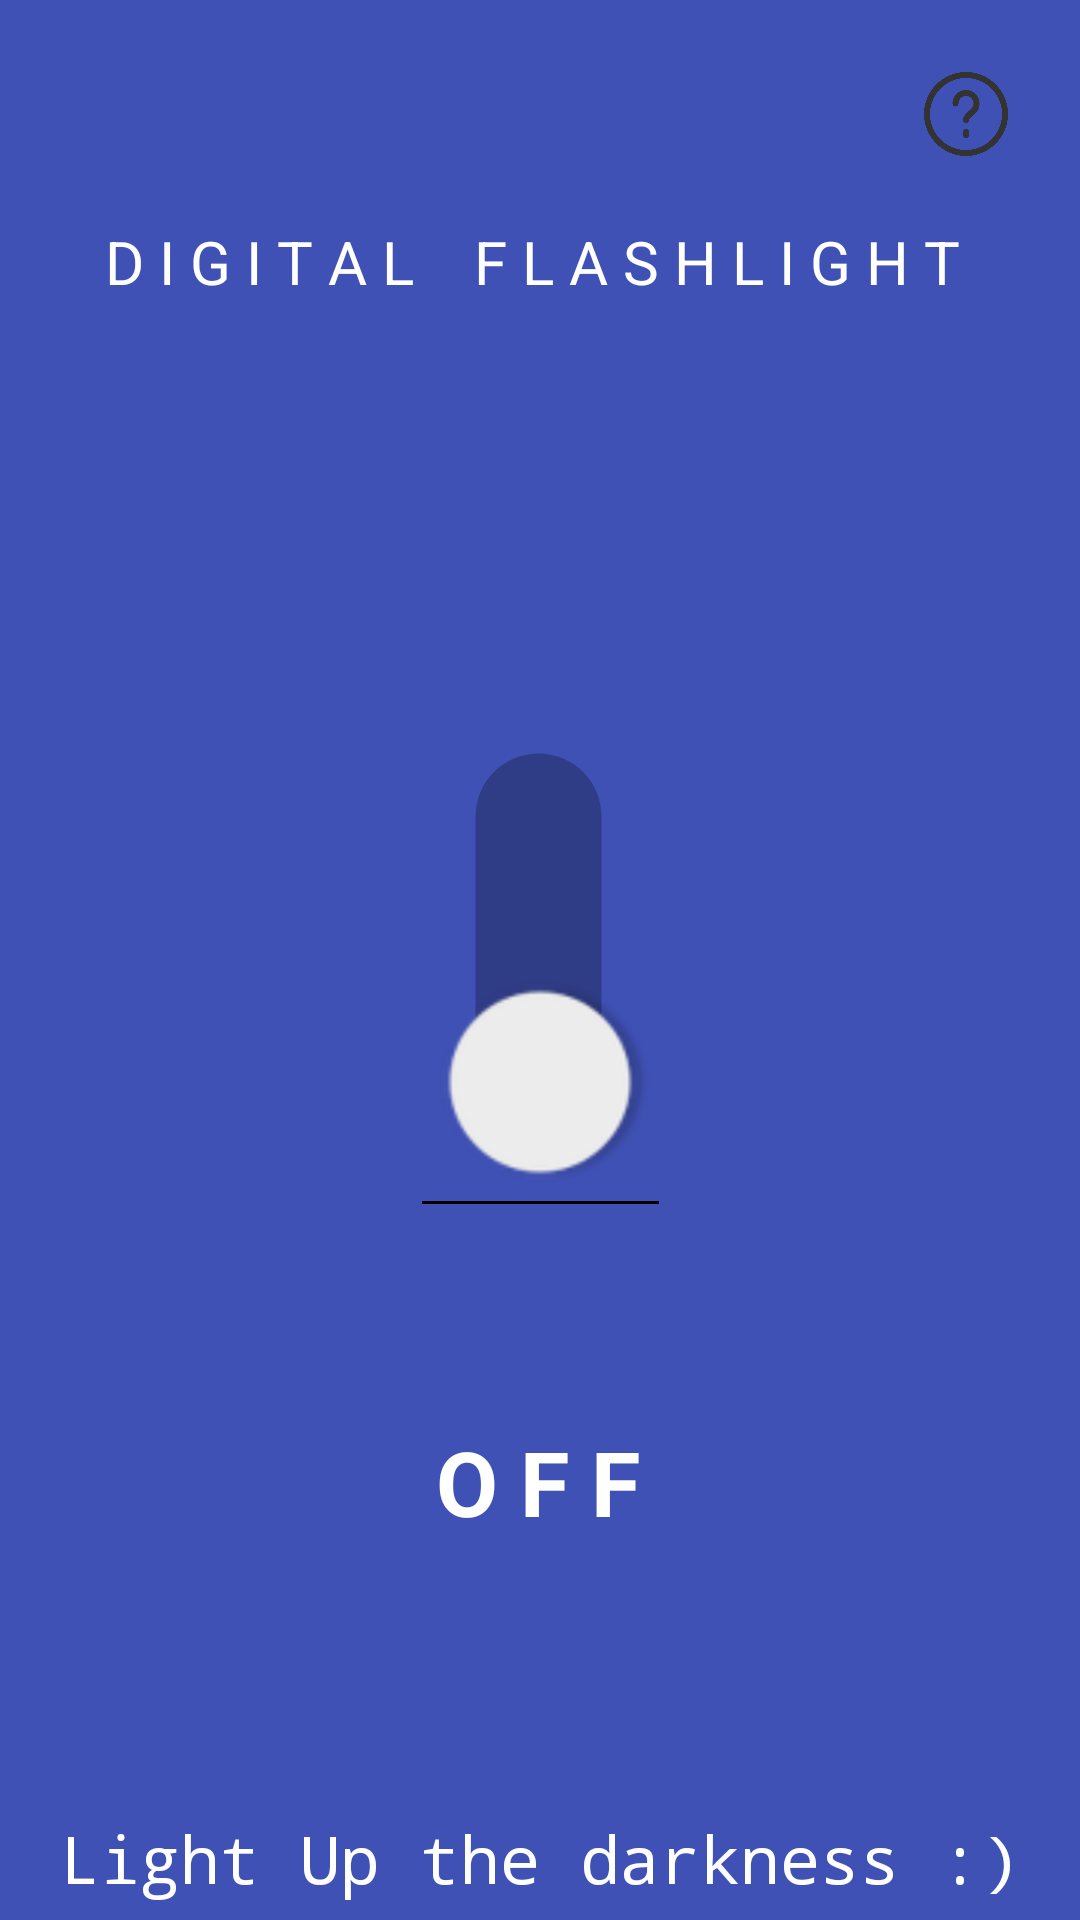

Named icons in this screenshot (1080px×1920px) and their bounding boxes, (x1, y1, x2, y2):
help: (924, 72, 1008, 156)
